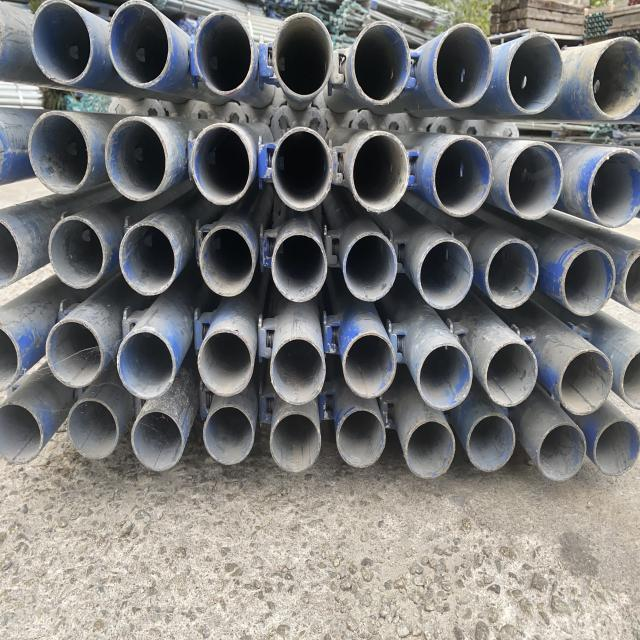pipe: (26, 109, 92, 204), (106, 1, 174, 92), (186, 122, 257, 208), (28, 0, 96, 89), (102, 119, 172, 202), (272, 12, 336, 102), (347, 126, 412, 214), (432, 22, 495, 111), (350, 20, 412, 108), (272, 125, 332, 215), (504, 138, 566, 225), (430, 136, 492, 222), (194, 12, 256, 96), (116, 219, 180, 300), (508, 29, 566, 118), (114, 328, 178, 402), (44, 312, 105, 388), (198, 225, 258, 302), (588, 34, 640, 122), (46, 216, 106, 292), (270, 232, 330, 305), (195, 329, 255, 402), (268, 336, 328, 408), (417, 238, 475, 312), (558, 344, 616, 417), (585, 148, 640, 224), (341, 330, 398, 403), (484, 239, 540, 313), (342, 232, 398, 305), (563, 243, 616, 320), (128, 408, 186, 477), (482, 339, 539, 408), (66, 399, 123, 467), (201, 403, 257, 471), (418, 342, 472, 412), (404, 416, 458, 485), (268, 410, 324, 474), (334, 406, 386, 472), (0, 398, 47, 471), (536, 420, 587, 485), (466, 413, 518, 476), (593, 418, 639, 478)
